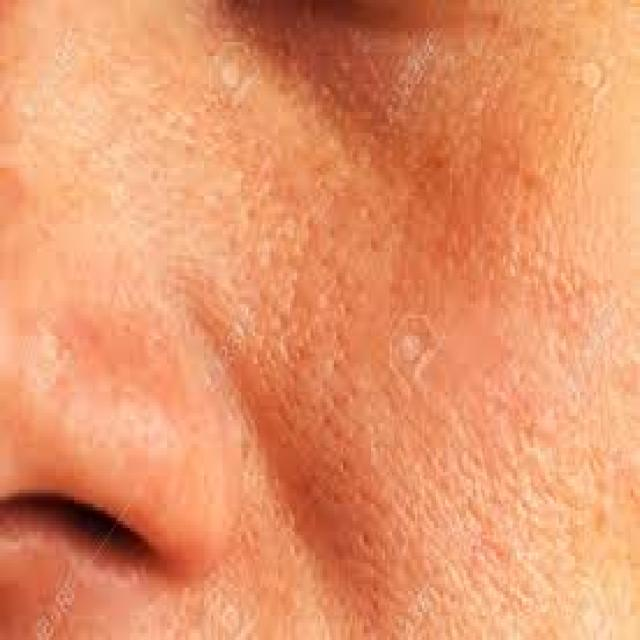Englarged-Pores: (77, 174, 461, 496)
Oily-Skin: (36, 63, 640, 586)
